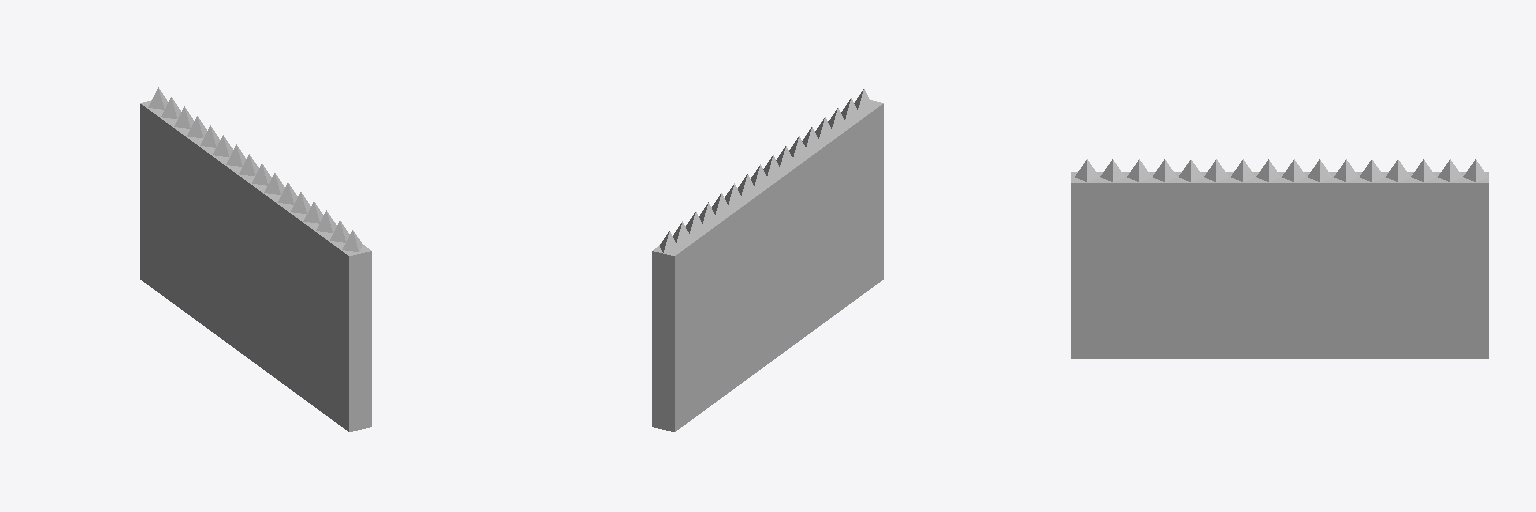
File: TrumpWall.obj
3 renders of one model, left to right at view 1: azimuth 30°, elevation 25°; view 2: azimuth 150°, elevation 25°; view 3: azimuth 270°, elevation 25°, orthographic.
Visible parts, largest first — view 1: group35; view 2: group35; view 3: group35.
Part boxes in pixels (x1,y1,x2,y2): group35: (140, 87, 371, 431); group35: (652, 89, 883, 431); group35: (1071, 159, 1488, 358).
Bounding box in the file's own units: 10.67 × 87.94 × 172.